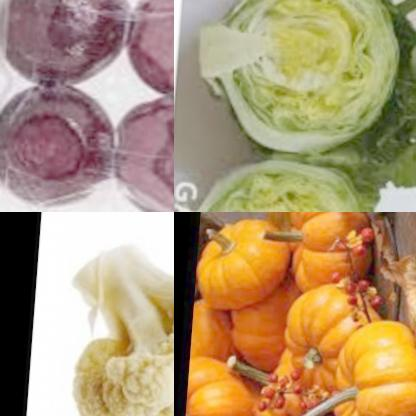beet: (0, 73, 129, 211), (0, 0, 134, 91), (107, 83, 174, 212), (126, 0, 174, 101)
cayliflower: (59, 226, 174, 416)
pumpkin: (280, 276, 380, 406), (196, 212, 294, 312), (325, 312, 416, 416), (282, 212, 378, 291), (231, 274, 302, 373), (186, 346, 268, 416), (193, 291, 249, 373)
salad: (202, 0, 416, 162), (180, 134, 416, 212)
